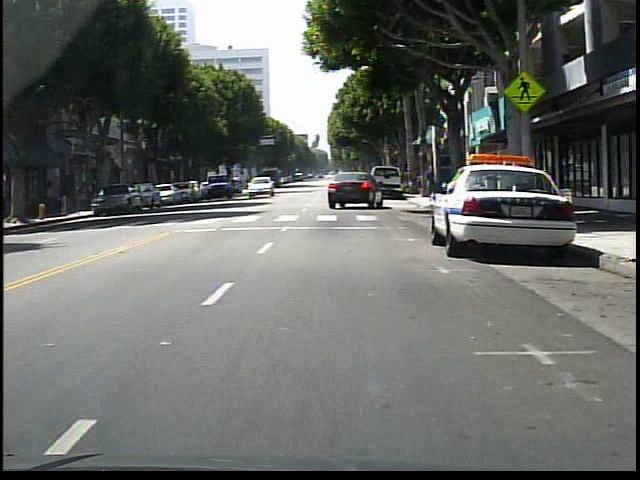person: (424, 164, 445, 206)
